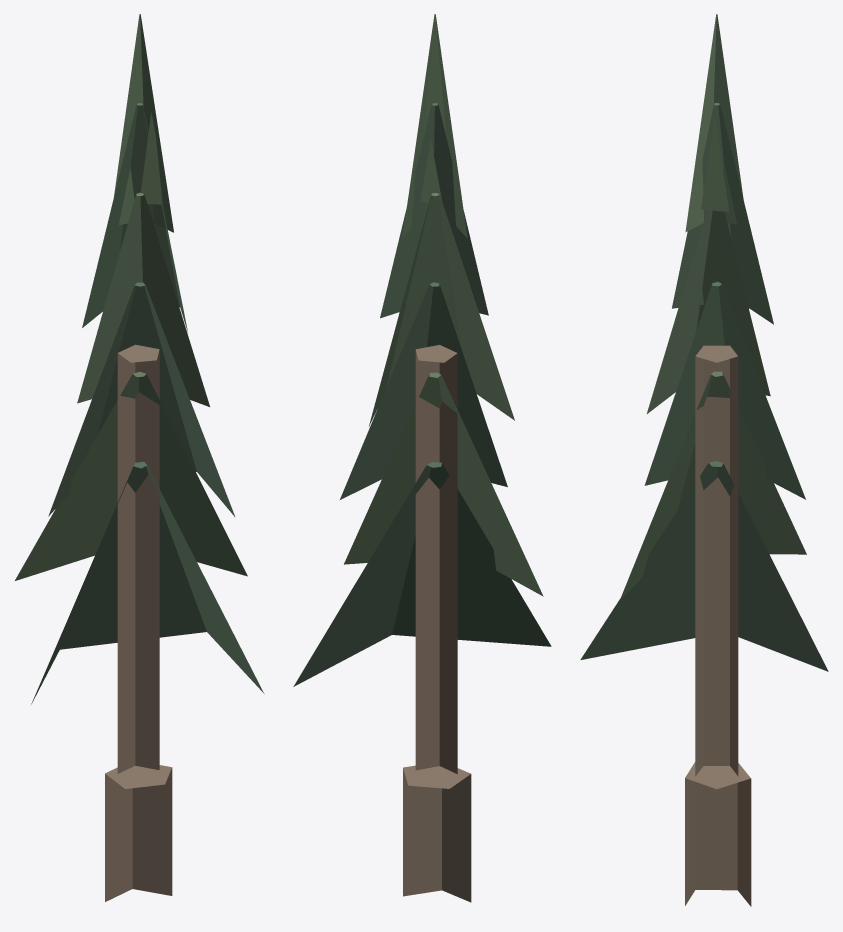
Rendered from tree.cold.fir__spring.glb.
The picture shows the model from 3 angles, left to right: view 1: azimuth 30°, elevation 25°; view 2: azimuth 150°, elevation 25°; view 3: azimuth 270°, elevation 25°; orthographic projection.
Visible parts, largest first — view 1: tree.cold.fir__spring; view 2: tree.cold.fir__spring; view 3: tree.cold.fir__spring.
Boxes of the visible parts, x1,y1,x2,y2 form: tree.cold.fir__spring: (15,14,264,901); tree.cold.fir__spring: (293,14,551,902); tree.cold.fir__spring: (580,14,828,906).
Bounding box in the file's own units: 5.12 × 20.71 × 5.26.
